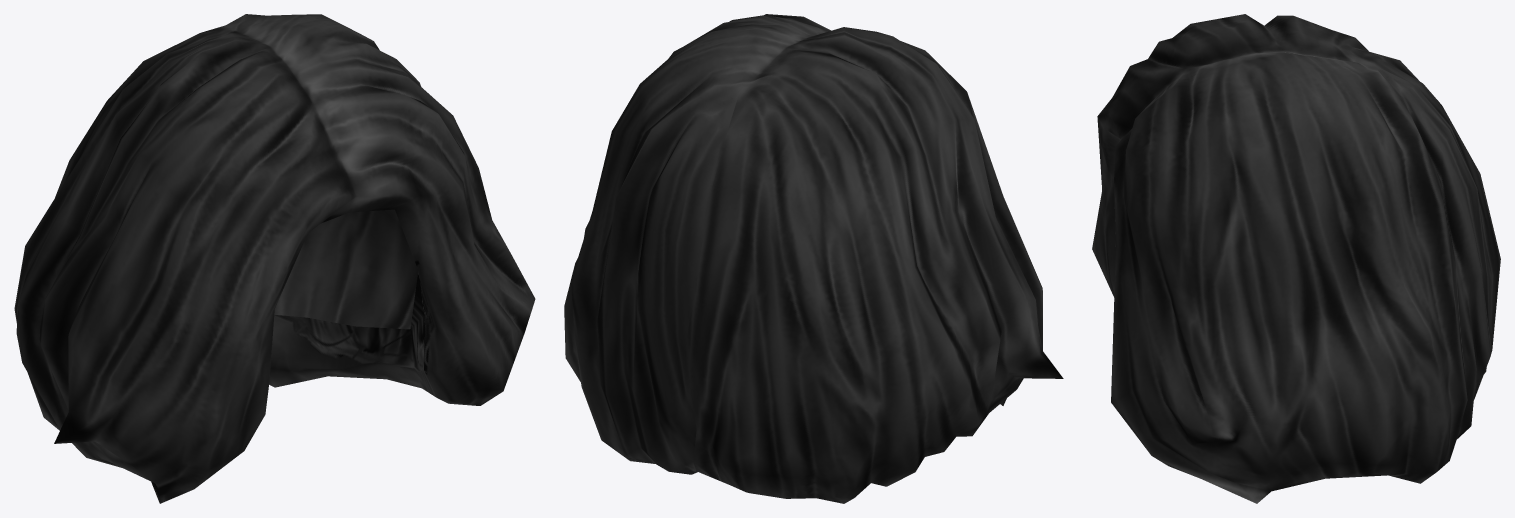
The model's file is AF_M_hair_G_08.fbx.
3 views of the same model, side by side, from view 1: azimuth 30°, elevation 25°; view 2: azimuth 150°, elevation 25°; view 3: azimuth 270°, elevation 25° (orthographic). The views are drawn at different scales.
Parts seen in each view (by area): view 1: AF_M_hair_G_08; view 2: AF_M_hair_G_08; view 3: AF_M_hair_G_08.
Boxes of the visible parts, box(x1,y1,x2,y2) form: AF_M_hair_G_08: box(14, 14, 535, 503); AF_M_hair_G_08: box(564, 14, 1063, 503); AF_M_hair_G_08: box(1092, 14, 1500, 503).
Bounding box in the file's own units: 1058 × 867 × 792.
